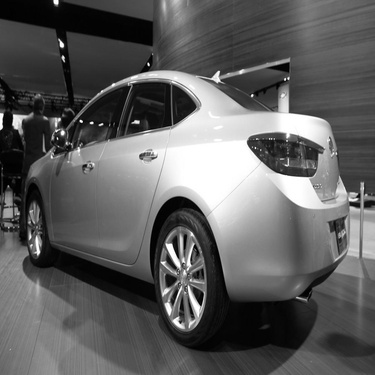car: (26, 61, 361, 329)
